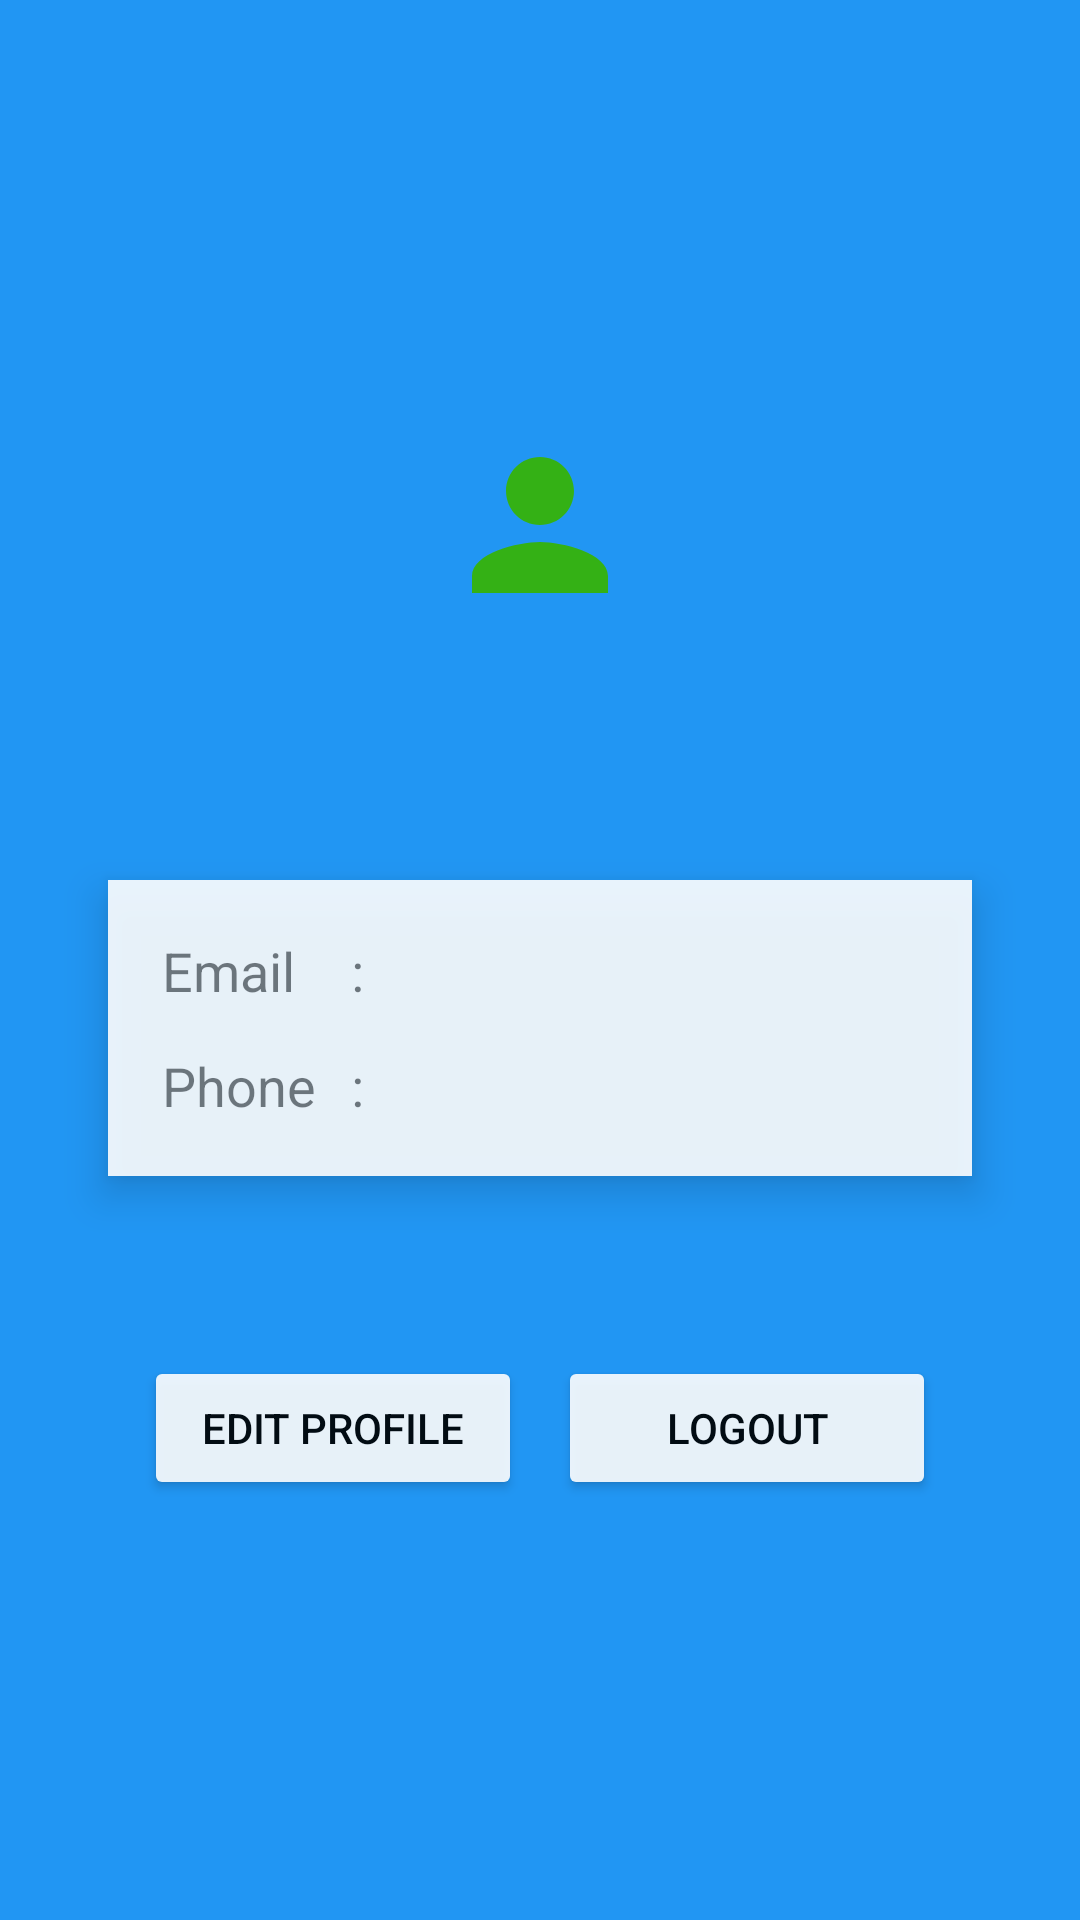

Named icons in this screenshot (1080px×1920px) and their bounding boxes, [x1,y1,x2,y2]:
person: [472,457,608,593]
